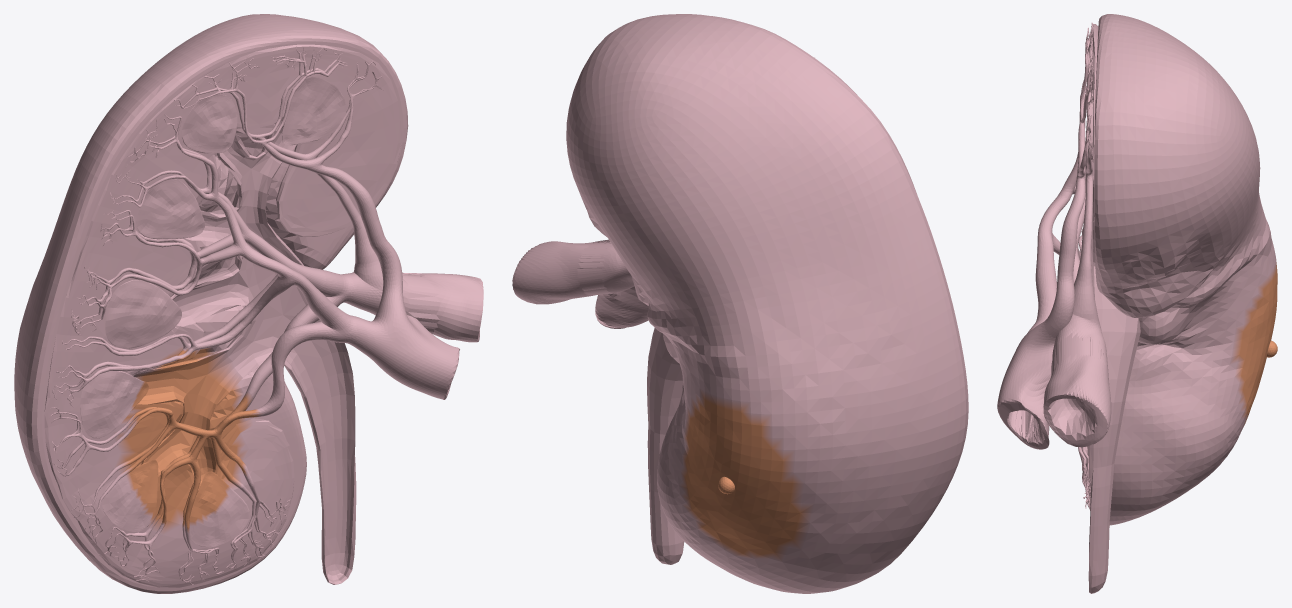
Rendered from kidney_1c2beea5.glb.
3 renders of one model, left to right at view 1: azimuth 30°, elevation 25°; view 2: azimuth 150°, elevation 25°; view 3: azimuth 270°, elevation 25°, orthographic. The views are drawn at different scales.
Parts seen in each view (by area): view 1: world; view 2: world; view 3: world.
Boxes of the visible parts, x1,y1,x2,y2 form: world: (14, 14, 483, 593); world: (512, 14, 968, 593); world: (997, 14, 1277, 593).
Bounding box in the file's own units: 8.47 × 10.1 × 4.88.
